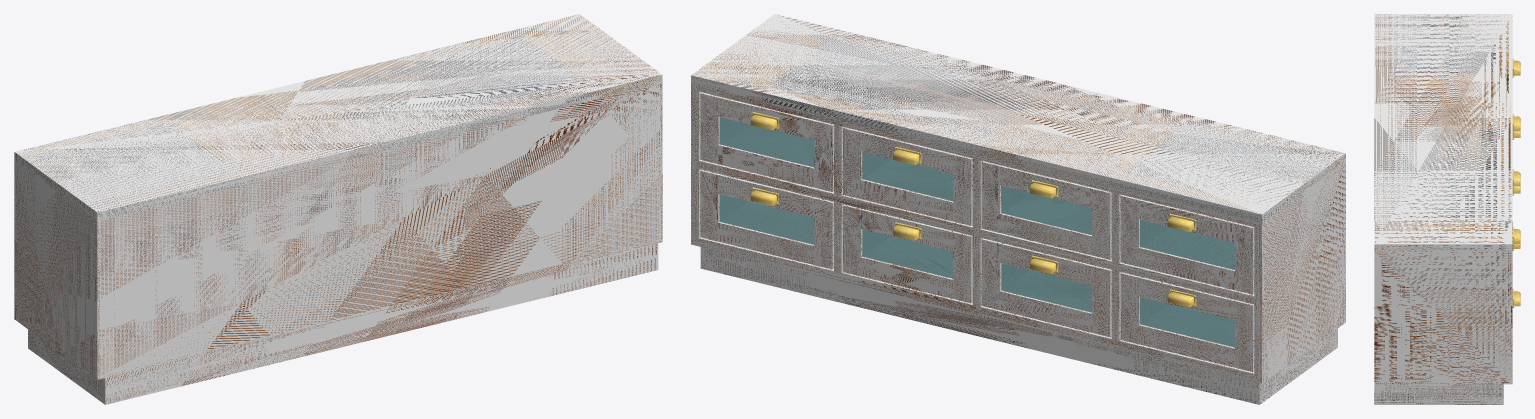
The picture shows the model from 3 angles, left to right: view 1: azimuth 30°, elevation 25°; view 2: azimuth 150°, elevation 25°; view 3: azimuth 270°, elevation 25°; orthographic projection. The views are drawn at different scales.
Visible parts, largest first — view 1: mesh2_mesh2-geometry; view 2: mesh2_mesh2-geometry, mesh1_mesh1-geometry; view 3: mesh2_mesh2-geometry, mesh1_mesh1-geometry.
Boxes of the visible parts, box(x1,y1,x2,y2) form: mesh2_mesh2-geometry: box(14, 14, 662, 404); mesh2_mesh2-geometry: box(691, 14, 1345, 404); mesh1_mesh1-geometry: box(750, 112, 1196, 307); mesh2_mesh2-geometry: box(1374, 14, 1512, 404); mesh1_mesh1-geometry: box(1512, 58, 1520, 308).
Bounding box in the file's own units: 0.9205 × 0.3025 × 0.2473.
